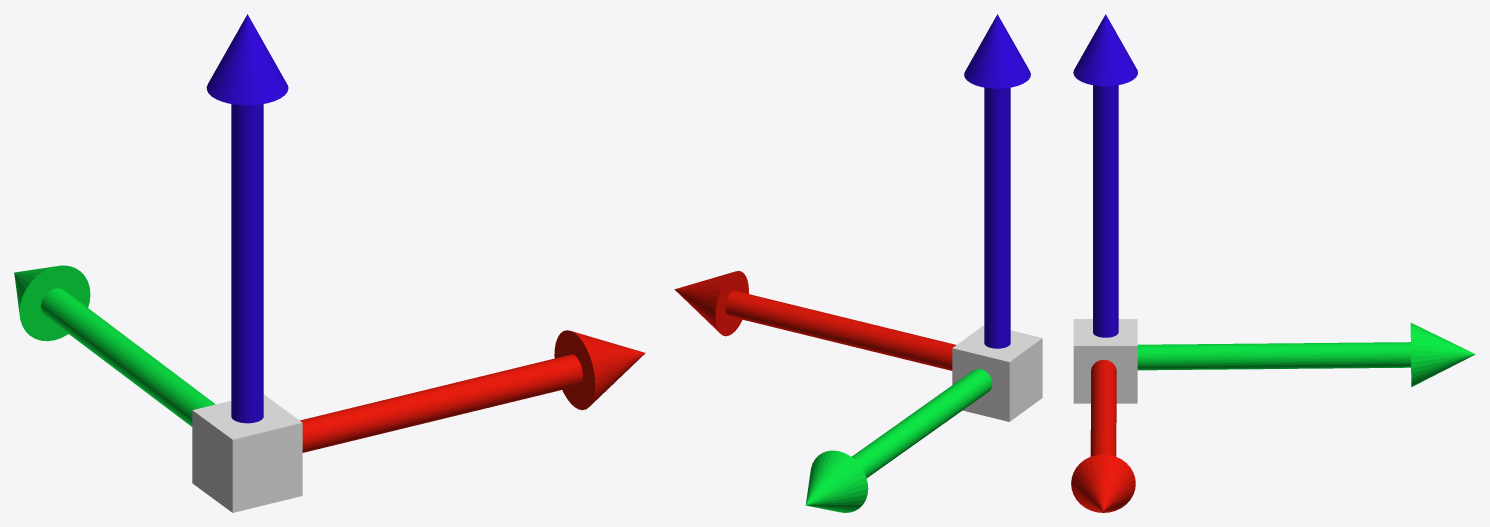
Rendered from translate_gizmo.gltf.
The picture shows the model from 3 angles, left to right: view 1: azimuth 30°, elevation 25°; view 2: azimuth 150°, elevation 25°; view 3: azimuth 270°, elevation 25°; orthographic projection. The views are drawn at different scales.
Visible parts, largest first — view 1: Y, X, z.002_Material_0, Z; view 2: Y, X, Z, z.002_Material_0; view 3: Z, Y, X, z.002_Material_0.
Part boxes in pixels (box(x1,y1,x2,y2)): Y: box(206, 14, 288, 423); X: box(300, 330, 645, 452); z.002_Material_0: box(192, 394, 302, 512); Z: box(14, 265, 215, 426); Y: box(964, 14, 1030, 348); X: box(674, 271, 956, 370); Z: box(805, 369, 992, 512); z.002_Material_0: box(952, 325, 1042, 421); Z: box(1137, 323, 1475, 386); Y: box(1073, 14, 1137, 337); X: box(1071, 359, 1135, 512); z.002_Material_0: box(1073, 319, 1137, 403).
Bounding box in the file's own units: 2.38 × 2.51 × 2.45.
